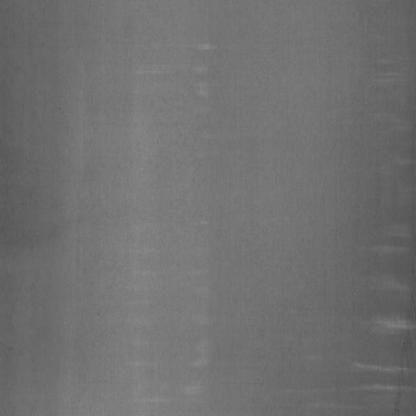waist_folding: (124, 25, 409, 398)
